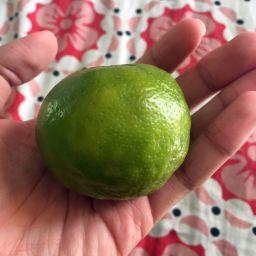Unripe: (35, 64, 193, 202)
